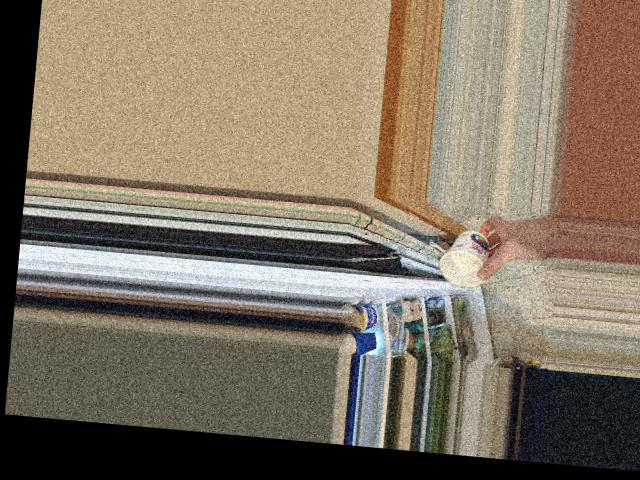cotage: (442, 228, 492, 287)
